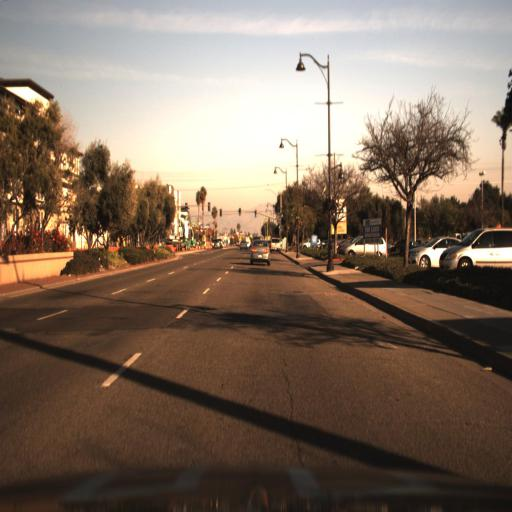car: (438, 224, 511, 276), (409, 233, 465, 271), (341, 226, 394, 265), (407, 228, 443, 281), (345, 232, 388, 259), (246, 239, 273, 270), (269, 236, 285, 258)
